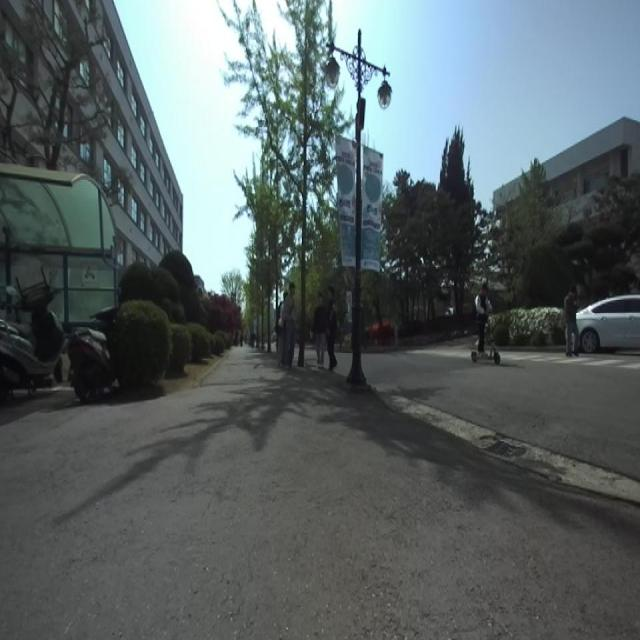sidewalk: (0, 346, 640, 639)
